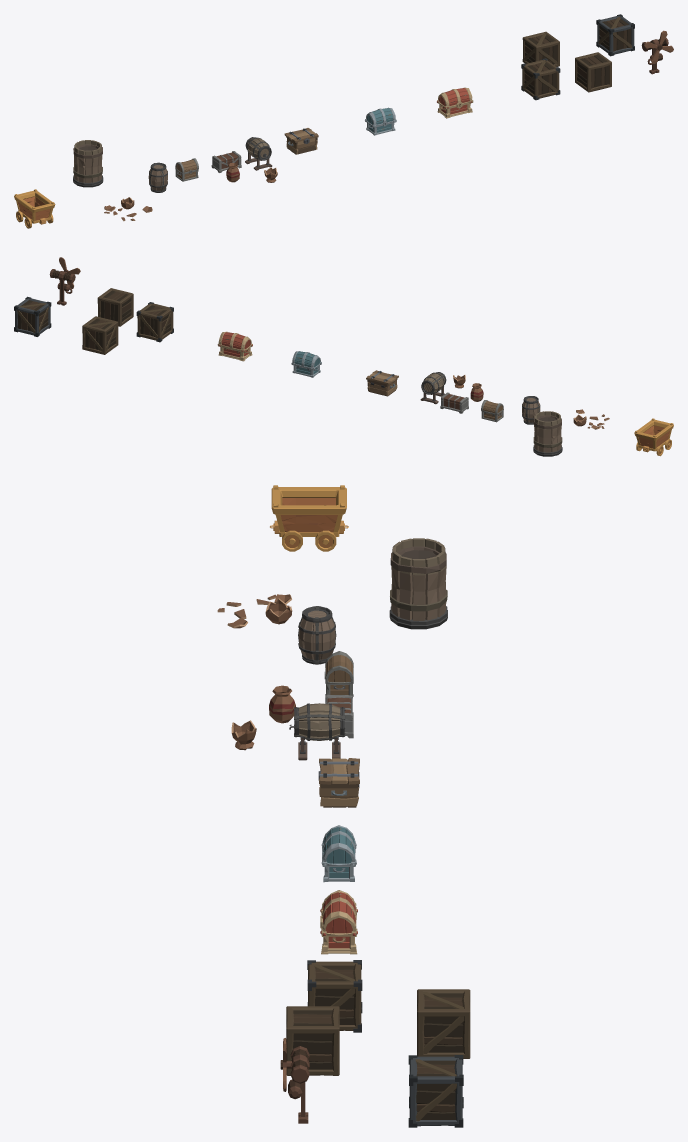
The model's file is Cave Props.fbx.
The picture shows the model from 3 angles, top to bottom: view 1: azimuth 30°, elevation 25°; view 2: azimuth 150°, elevation 25°; view 3: azimuth 270°, elevation 25°; orthographic projection. The views are drawn at different scales.
Visible parts, largest first — view 1: polySurface410_Dungeon_Material_01_0, polySurface678_Dungeon_Material_01_0, polySurface1207_Dungeon_Material_01_0, polySurface115_Dungeon_Material_01_0, polySurface160_Dungeon_Material_01_0, polySurface1079_Dungeon_Material_01_0, polySurface1093_Dungeon_Material_01_0, polySurface1917_Dungeon_Material_01_0, polySurface426_Dungeon_Material_01_0, polySurface236_Dungeon_Material_01_0, polySurface646_Dungeon_Material_01_0, polySurface892_Dungeon_Material_01_0 (+3 smaller); view 2: polySurface410_Dungeon_Material_01_0, polySurface678_Dungeon_Material_01_0, polySurface1207_Dungeon_Material_01_0, polySurface1079_Dungeon_Material_01_0, polySurface115_Dungeon_Material_01_0, polySurface160_Dungeon_Material_01_0, polySurface1093_Dungeon_Material_01_0, polySurface1917_Dungeon_Material_01_0, polySurface646_Dungeon_Material_01_0, polySurface426_Dungeon_Material_01_0, polySurface236_Dungeon_Material_01_0, polySurface483_Dungeon_Material_01_0 (+2 smaller); view 3: polySurface410_Dungeon_Material_01_0, polySurface160_Dungeon_Material_01_0, polySurface1207_Dungeon_Material_01_0, polySurface1079_Dungeon_Material_01_0, polySurface115_Dungeon_Material_01_0, polySurface678_Dungeon_Material_01_0, polySurface236_Dungeon_Material_01_0, polySurface1093_Dungeon_Material_01_0, polySurface1917_Dungeon_Material_01_0, polySurface892_Dungeon_Material_01_0, polySurface426_Dungeon_Material_01_0, polySurface646_Dungeon_Material_01_0 (+2 smaller).
Part boxes in pixels (x1,y1,x2,y2): polySurface410_Dungeon_Material_01_0: (73,140,103,187); polySurface678_Dungeon_Material_01_0: (521,58,560,100); polySurface1207_Dungeon_Material_01_0: (596,14,634,56); polySurface115_Dungeon_Material_01_0: (575,52,611,92); polySurface160_Dungeon_Material_01_0: (14,189,55,228); polySurface1079_Dungeon_Material_01_0: (522,31,559,66); polySurface1093_Dungeon_Material_01_0: (437,87,473,118); polySurface1917_Dungeon_Material_01_0: (284,128,318,154); polySurface426_Dungeon_Material_01_0: (365,107,396,135); polySurface236_Dungeon_Material_01_0: (245,137,272,170); polySurface646_Dungeon_Material_01_0: (641,30,673,74); polySurface892_Dungeon_Material_01_0: (148,162,167,192); polySurface410_Dungeon_Material_01_0: (533,411,562,456); polySurface678_Dungeon_Material_01_0: (136,302,173,342); polySurface1207_Dungeon_Material_01_0: (14,296,51,336); polySurface1079_Dungeon_Material_01_0: (82,316,118,354); polySurface115_Dungeon_Material_01_0: (97,288,133,326); polySurface160_Dungeon_Material_01_0: (634,418,673,456); polySurface1093_Dungeon_Material_01_0: (217,331,252,361); polySurface1917_Dungeon_Material_01_0: (366,370,398,396); polySurface646_Dungeon_Material_01_0: (49,257,80,305); polySurface426_Dungeon_Material_01_0: (291,351,321,377); polySurface236_Dungeon_Material_01_0: (420,372,446,404); polySurface483_Dungeon_Material_01_0: (440,392,468,413); polySurface410_Dungeon_Material_01_0: (389,538,447,629); polySurface160_Dungeon_Material_01_0: (270,485,348,551); polySurface1207_Dungeon_Material_01_0: (408,1055,463,1127); polySurface1079_Dungeon_Material_01_0: (417,989,470,1058); polySurface115_Dungeon_Material_01_0: (286,1006,339,1075); polySurface678_Dungeon_Material_01_0: (307,960,362,1032); polySurface236_Dungeon_Material_01_0: (289,703,345,760); polySurface1093_Dungeon_Material_01_0: (320,890,357,954); polySurface1917_Dungeon_Material_01_0: (318,758,359,807); polySurface892_Dungeon_Material_01_0: (298,606,336,664); polySurface426_Dungeon_Material_01_0: (321,825,356,882); polySurface646_Dungeon_Material_01_0: (280,1038,309,1123).
Bounding box in the file's own units: 28.74 × 1.89 × 5.08.
1 material, 1 textured.
